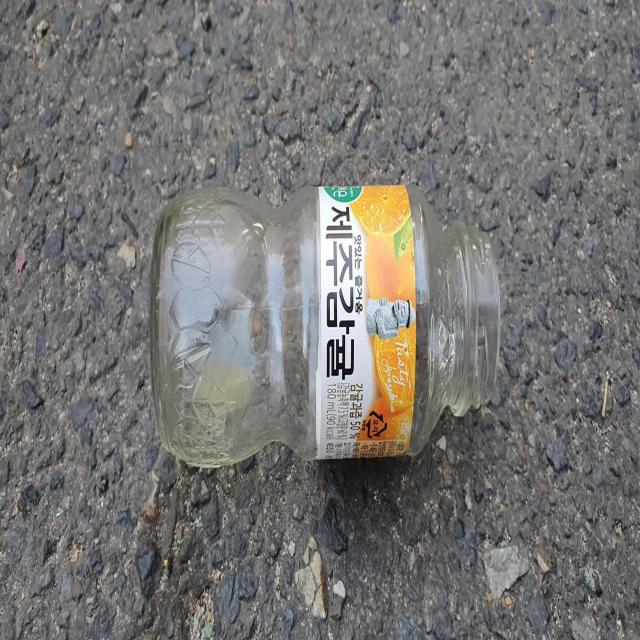glass: (149, 182, 501, 466)
